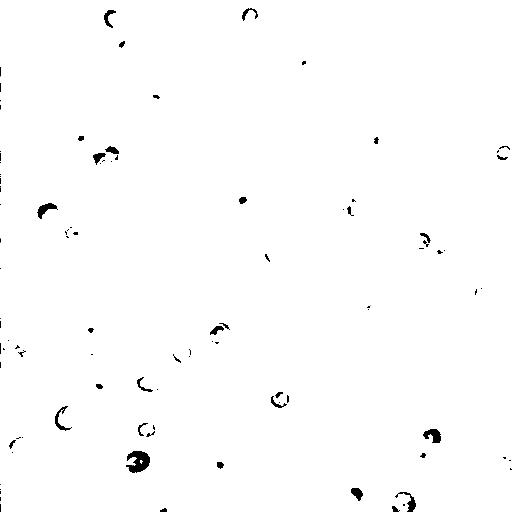micro-algae: (0, 50, 122, 192), (400, 35, 499, 131), (267, 80, 355, 168), (274, 0, 340, 57), (32, 246, 88, 303), (96, 380, 147, 429), (360, 119, 403, 165), (77, 139, 123, 177), (105, 481, 160, 512), (1, 26, 24, 92), (336, 189, 376, 225), (198, 320, 236, 356), (0, 330, 35, 366), (75, 320, 111, 353), (61, 121, 96, 153), (288, 43, 320, 75), (472, 279, 503, 310), (246, 369, 277, 400), (413, 440, 443, 471), (356, 294, 387, 323), (132, 368, 166, 394), (34, 202, 62, 231), (430, 235, 459, 263), (489, 448, 512, 483), (63, 221, 93, 246), (53, 405, 79, 433), (159, 477, 187, 503), (8, 434, 33, 462), (86, 372, 114, 397), (124, 449, 152, 474), (208, 453, 235, 478), (108, 32, 134, 57), (389, 491, 418, 512), (417, 426, 443, 448), (170, 341, 192, 366), (106, 0, 142, 15), (147, 497, 183, 512), (1, 77, 15, 115), (262, 240, 283, 264), (136, 419, 157, 441), (274, 88, 294, 109), (270, 389, 291, 409), (103, 9, 125, 28), (241, 7, 260, 28), (415, 232, 432, 252), (349, 485, 365, 505), (496, 144, 512, 162), (439, 66, 452, 82), (235, 194, 249, 207)
